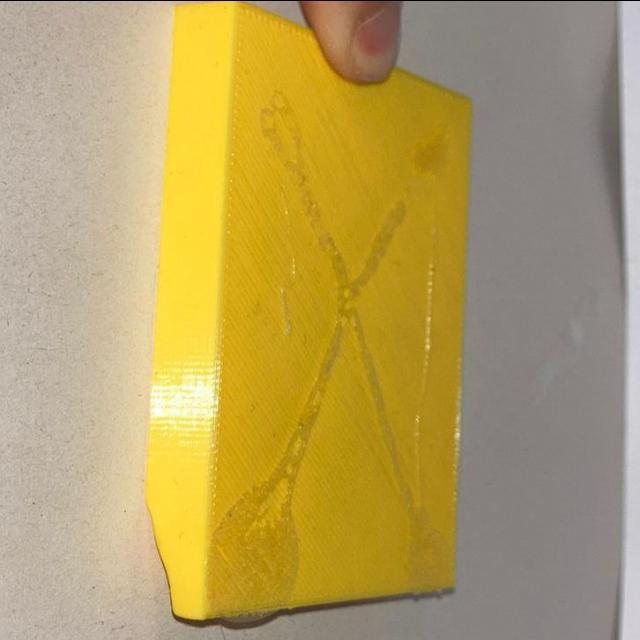Warping: (138, 480, 192, 615)
